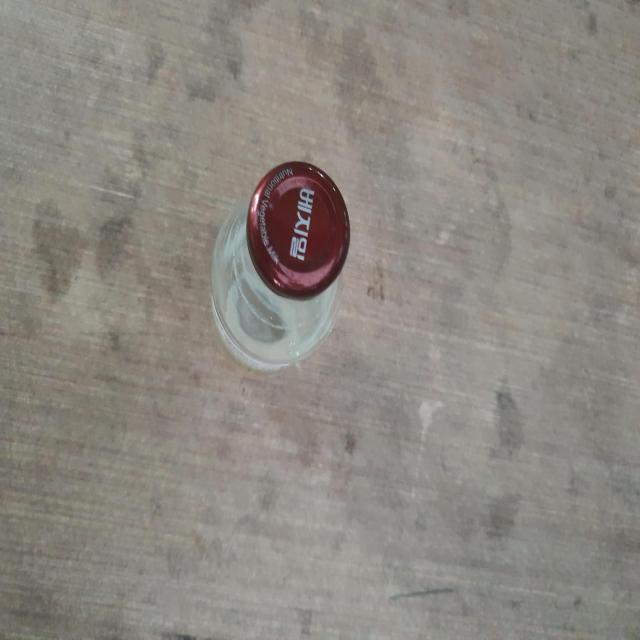glass: (211, 161, 350, 371)
